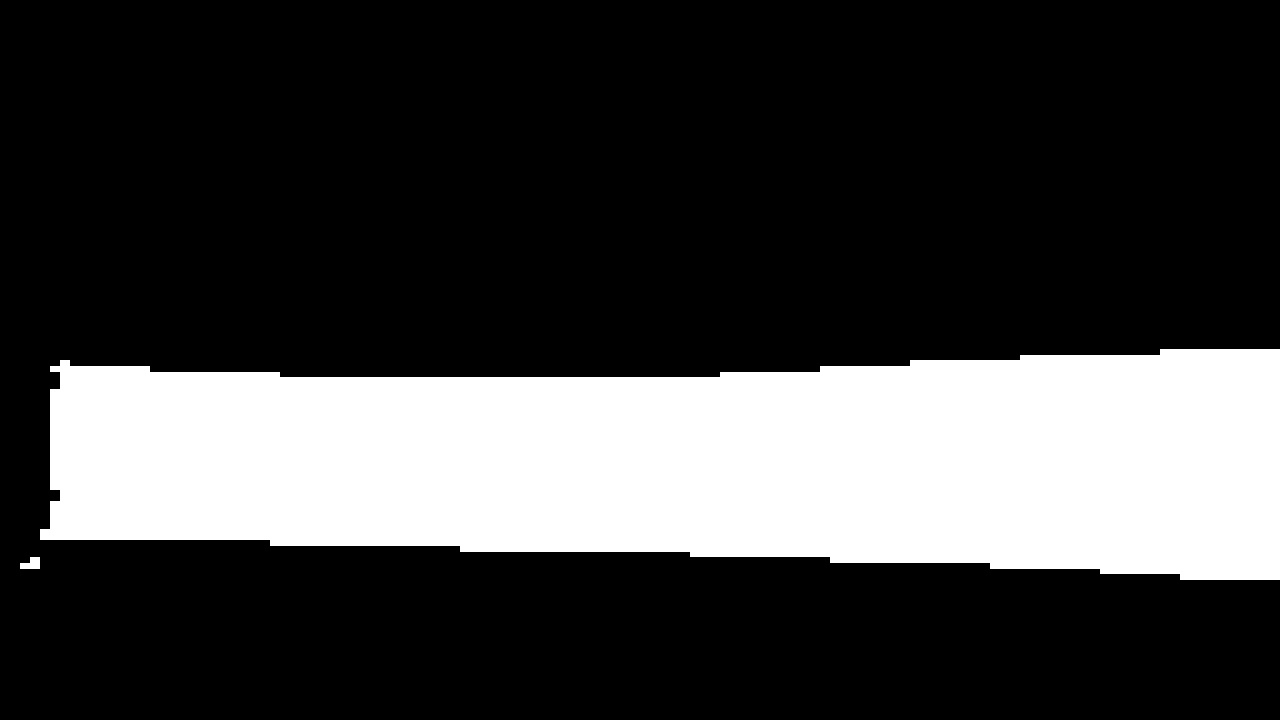Turbine: (34, 320, 1266, 559)
